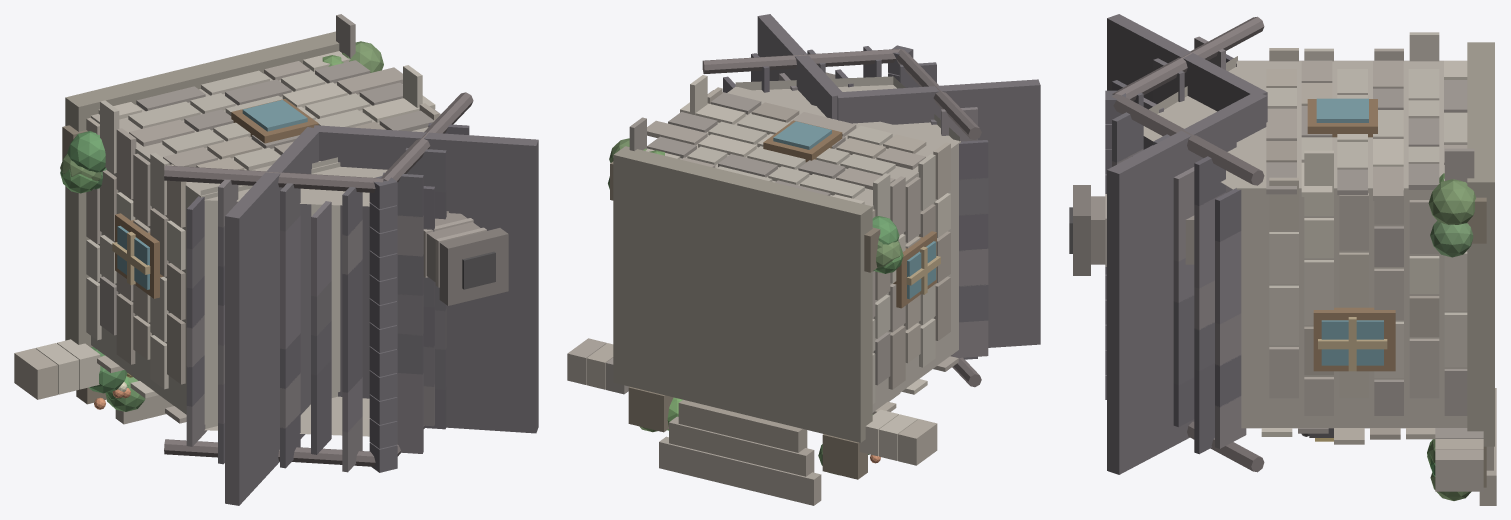
File: System_House.glb
3 views of the same model, side by side, from view 1: azimuth 30°, elevation 25°; view 2: azimuth 150°, elevation 25°; view 3: azimuth 270°, elevation 25° (orthographic). The views are drawn at different scales.
Visible parts, largest first — view 1: main slate roof_150, main slate roof_110, stone foundation_0, masonry main house_1, chimney cap_211, roof edge_204, roof edge_202, stone garden wall_304, gable triangle_3, roof edge_205, window wood frame_239, rear window glass_244 (+98 smaller); view 2: stone foundation_0, main slate roof_110, masonry main house_1, stone front step_253, stone front step_252, main slate roof_150, stone front step_251, roof edge_205, gable triangle_3, plant bed_254, plant bed_266, roof edge_204 (+53 smaller); view 3: main slate roof_150, masonry main house_1, stone foundation_0, main slate roof_110, roof edge_205, roof edge_204, window wood frame_235, stone garden wall_307, blue glass_236, side masonry_58, gable triangle_3, side masonry_77 (+82 smaller).
Part boxes in pixels (<box>): main slate roof_150: <box>312,125,538,433</box>; main slate roof_110: <box>225,127,320,505</box>; stone foundation_0: <box>65,31,339,347</box>; masonry main house_1: <box>91,69,428,424</box>; chimney cap_211: <box>439,228,508,305</box>; roof edge_204: <box>164,165,383,192</box>; roof edge_202: <box>164,439,375,466</box>; stone garden wall_304: <box>14,348,57,399</box>; gable triangle_3: <box>200,157,387,206</box>; roof edge_205: <box>381,92,473,182</box>; window wood frame_239: <box>115,213,163,298</box>; rear window glass_244: <box>242,100,307,131</box>; stone foundation_0: <box>613,146,872,442</box>; main slate roof_110: <box>836,79,1040,347</box>; masonry main house_1: <box>680,87,960,412</box>; stone front step_253: <box>659,436,821,505</box>; stone front step_252: <box>669,416,814,476</box>; main slate roof_150: <box>757,14,841,119</box>; stone front step_251: <box>678,399,807,452</box>; roof edge_205: <box>702,49,900,73</box>; gable triangle_3: <box>735,76,959,141</box>; plant bed_254: <box>822,434,867,479</box>; plant bed_266: <box>628,386,673,432</box>; roof edge_204: <box>896,49,981,139</box>; main slate roof_150: <box>1107,94,1267,474</box>; masonry main house_1: <box>1236,60,1467,428</box>; stone foundation_0: <box>1467,42,1494,446</box>; main slate roof_110: <box>1107,14,1267,111</box>; roof edge_205: <box>1112,93,1264,185</box>; roof edge_204: <box>1112,16,1264,100</box>; window wood frame_235: <box>1313,307,1395,371</box>; stone garden wall_307: <box>1435,449,1483,491</box>; blue glass_236: <box>1321,320,1383,365</box>; side masonry_58: <box>1409,338,1439,398</box>; gable triangle_3: <box>1143,56,1237,189</box>; side masonry_77: <box>1269,285,1298,345</box>.
Bounding box in the file's own units: 4.73 × 4.21 × 4.32.
